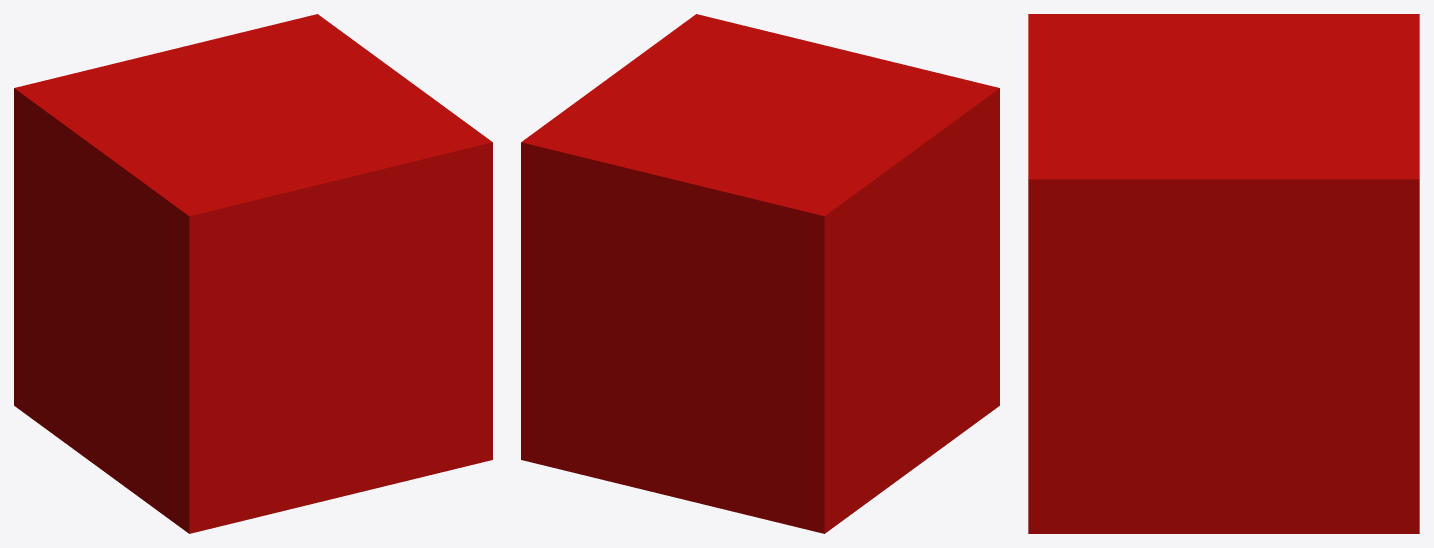
The model's file is cubo_subd.obj.
3 renders of one model, left to right at view 1: azimuth 30°, elevation 25°; view 2: azimuth 150°, elevation 25°; view 3: azimuth 270°, elevation 25°, orthographic. The views are drawn at different scales.
Parts seen in each view (by area): view 1: Cube; view 2: Cube; view 3: Cube.
Boxes of the visible parts, x1=… form: Cube: x1=14, y1=14, x2=492, y2=533; Cube: x1=521, y1=14, x2=999, y2=533; Cube: x1=1028, y1=14, x2=1419, y2=533.
Bounding box in the file's own units: 2 × 2 × 2.
